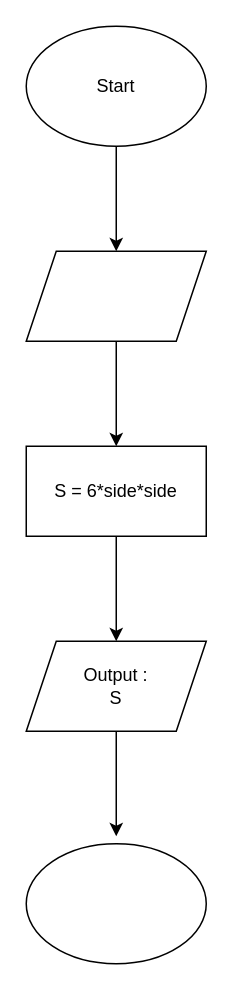
The diagram is 233 pixels wide and 990 high, and some of its shapes have lost their labels. Each missing label, with the centre of its shape:
"End" goes at pixel 115 903.
"Input : Side" goes at pixel 115 295.
